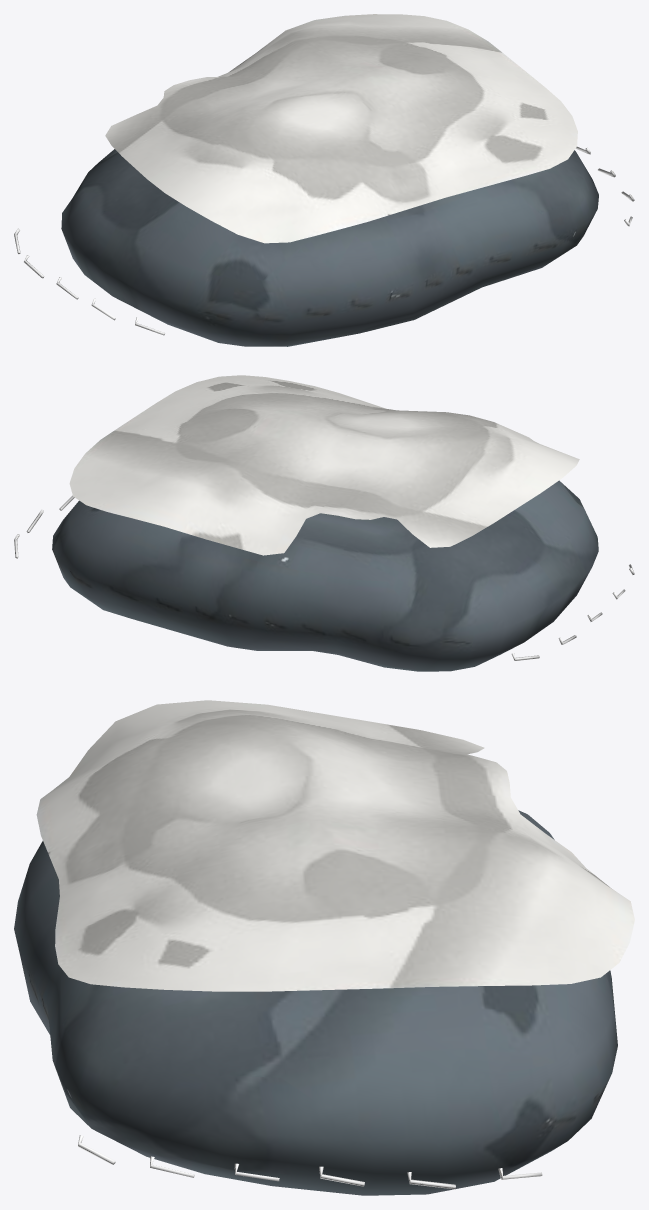
Rendered from rock_b.glb.
3 views of the same model, one above another, from view 1: azimuth 30°, elevation 25°; view 2: azimuth 150°, elevation 25°; view 3: azimuth 270°, elevation 25° (orthographic). The views are drawn at different scales.
Parts seen in each view (by area): view 1: prop_rock_b_felt, rock_b_stitch.001; view 2: prop_rock_b_felt, rock_b_stitch.001; view 3: prop_rock_b_felt, rock_b_stitch.001.
Part boxes in pixels (x1,y1,x2,y2): prop_rock_b_felt: (61, 14, 632, 346); rock_b_stitch.001: (14, 146, 634, 335); prop_rock_b_felt: (18, 375, 598, 671); rock_b_stitch.001: (14, 495, 634, 660); prop_rock_b_felt: (14, 700, 634, 1195); rock_b_stitch.001: (78, 1135, 542, 1189).
Size of the model in its own units: 2.24 by 0.7967 by 1.53.
2 materials, 1 textured.
